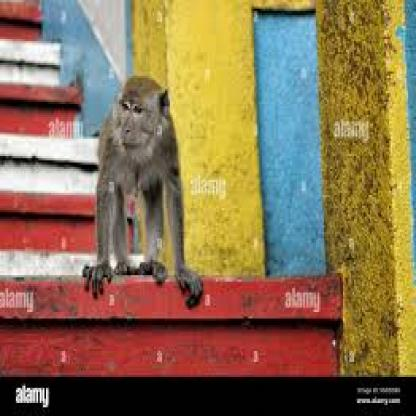monkey: (80, 72, 204, 308)
